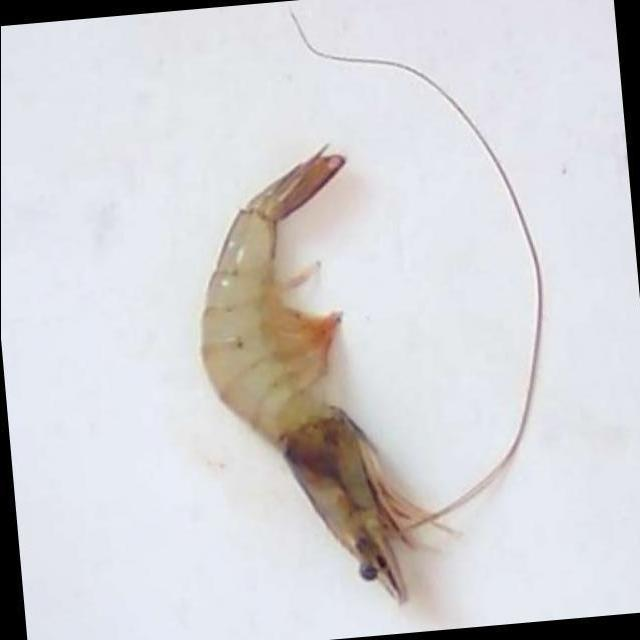shrimp: (202, 149, 424, 605)
